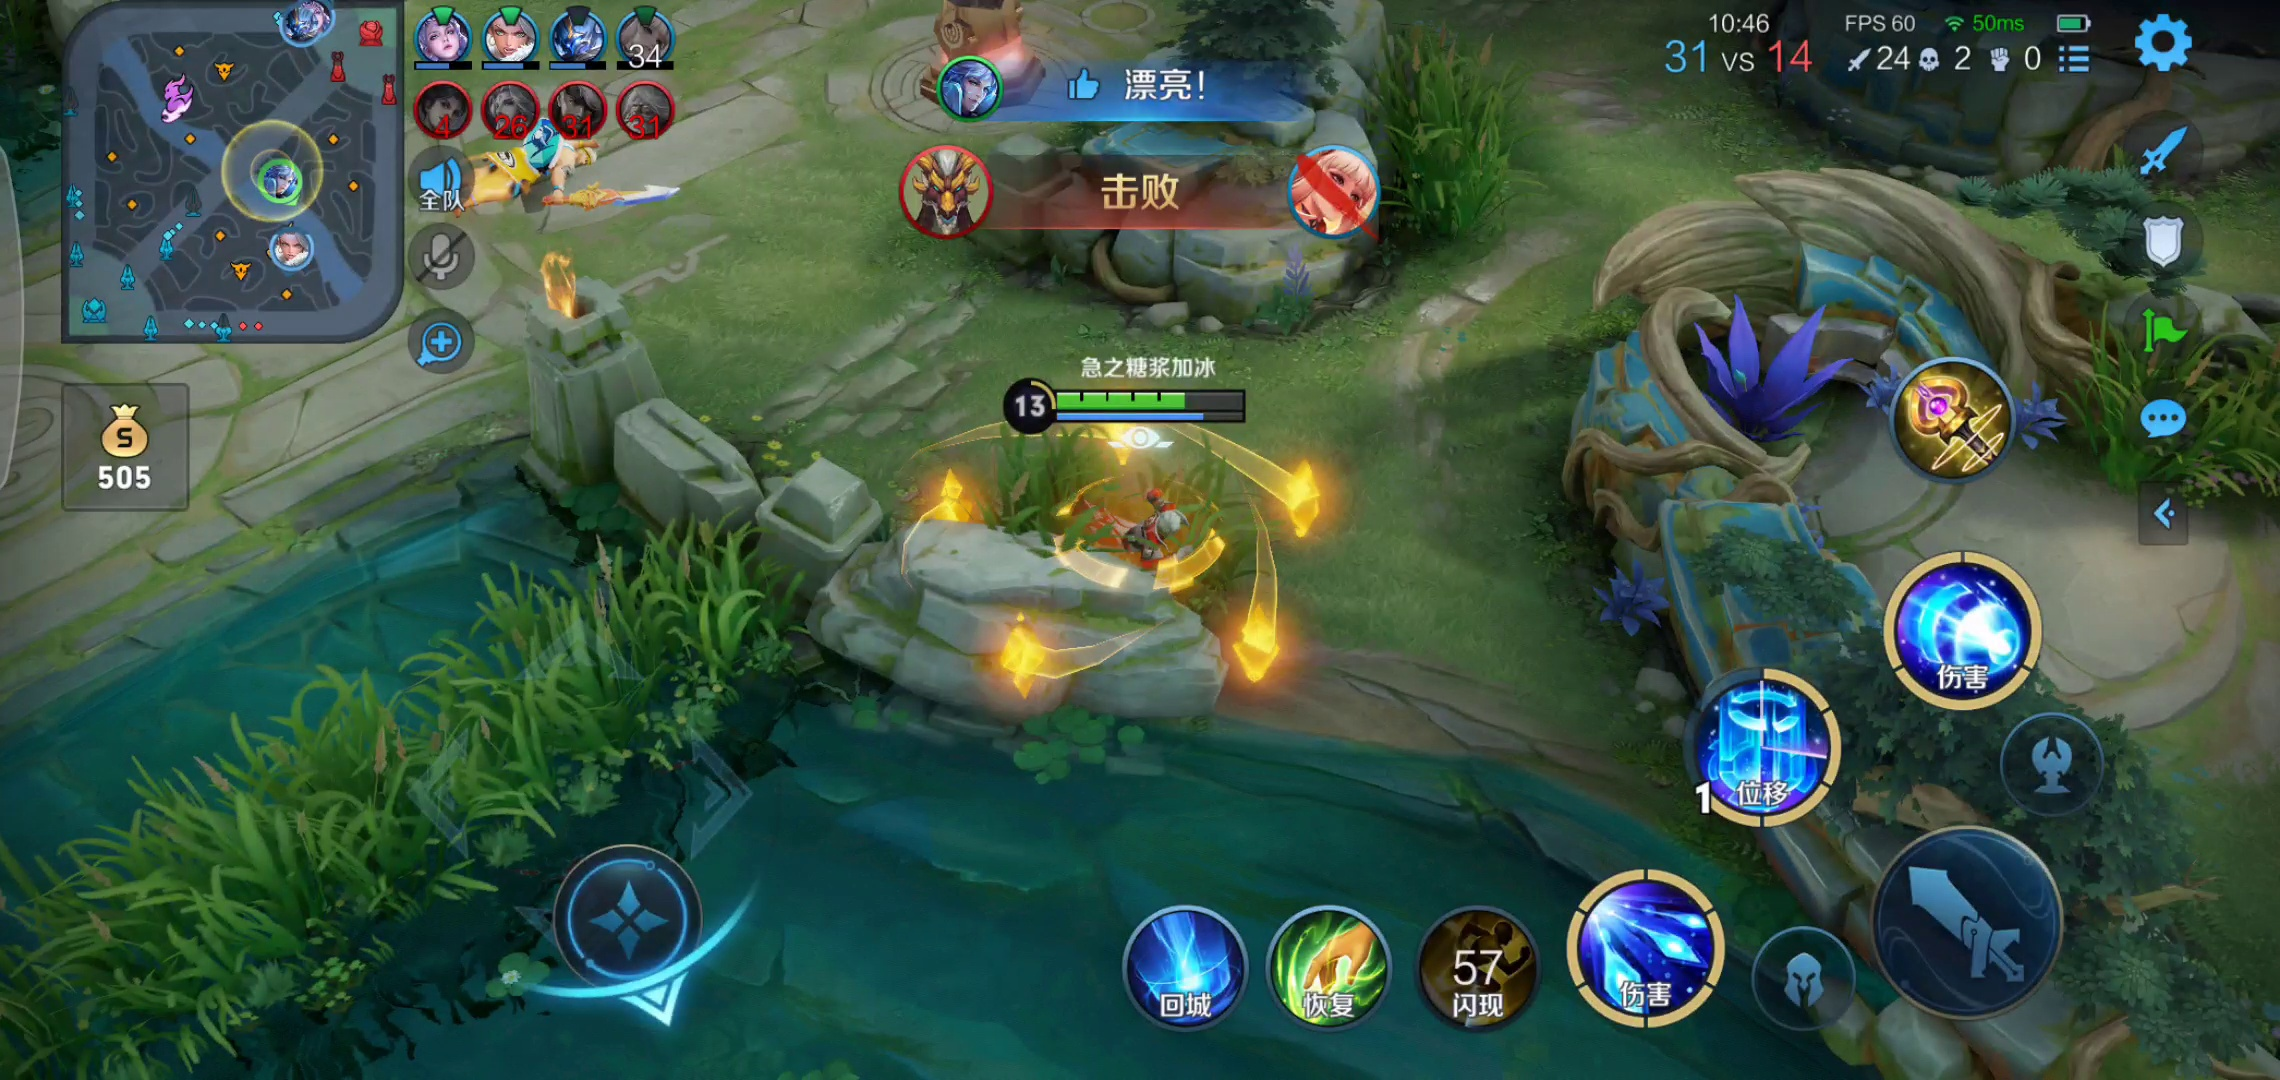grass: (29, 548, 822, 1080), (1008, 449, 1272, 628), (1355, 38, 1546, 240), (2074, 331, 2280, 478)
hero: (471, 112, 611, 249), (1080, 499, 1182, 576)
tower: (888, 7, 1069, 112)
